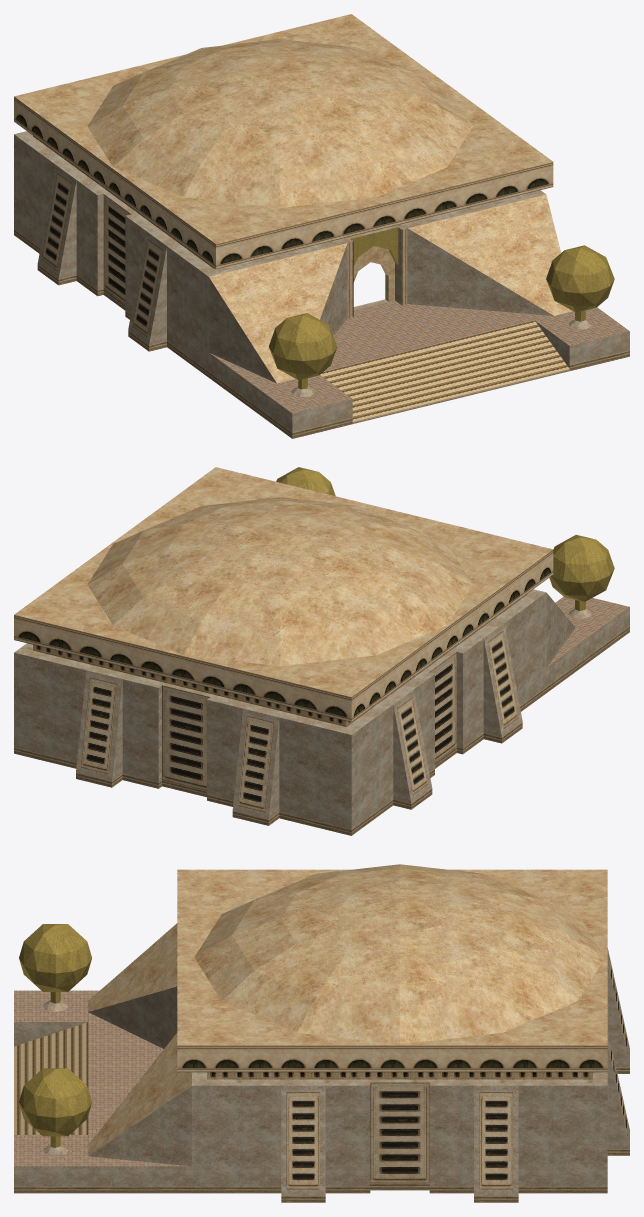
File: mun_tato_guild_commerce_s01_r0_exterior_mesh_tato_guildcommerce_l1.fbx
The picture shows the model from 3 angles, top to bottom: view 1: azimuth 30°, elevation 25°; view 2: azimuth 150°, elevation 25°; view 3: azimuth 270°, elevation 25°; orthographic projection. The views are drawn at different scales.
Visible parts, largest first — view 1: mesh_node; view 2: mesh_node; view 3: mesh_node.
Boxes of the visible parts, bbox=[...] form: mesh_node: bbox=[14, 14, 629, 438]; mesh_node: bbox=[14, 467, 629, 835]; mesh_node: bbox=[14, 864, 629, 1202].
Size of the model in its own units: 38.75 by 18.75 by 51.88.
